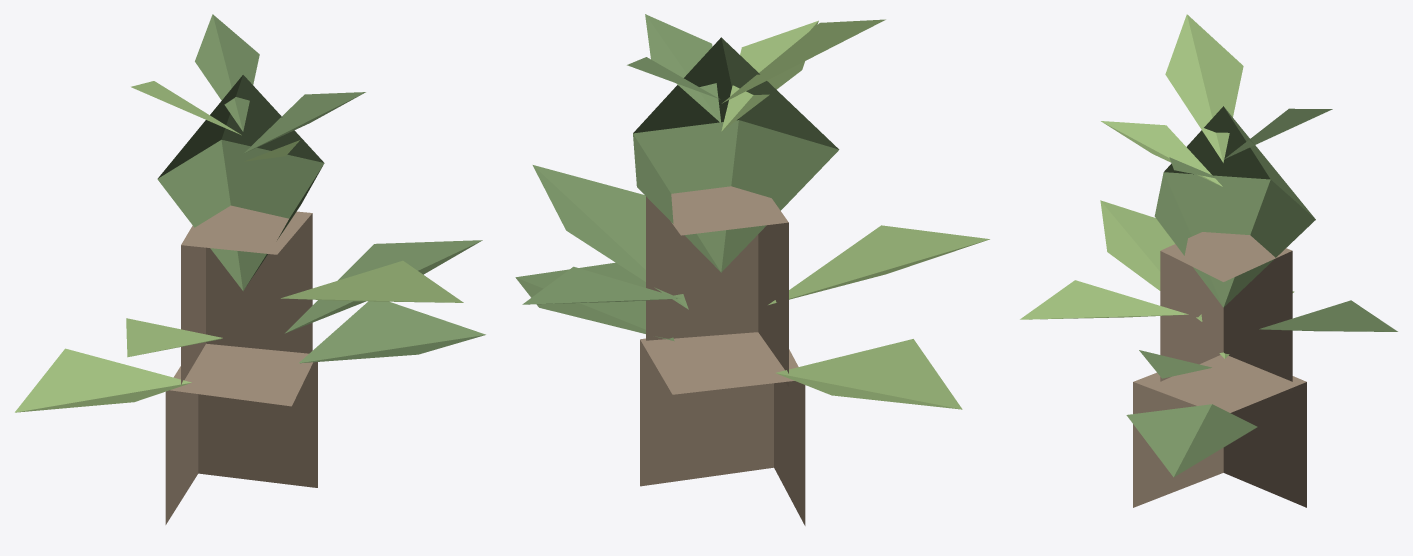
The model's file is shui.pingpeng@seedling__bloom.glb.
3 views of the same model, side by side, from view 1: azimuth 30°, elevation 25°; view 2: azimuth 150°, elevation 25°; view 3: azimuth 270°, elevation 25° (orthographic). The views are drawn at different scales.
Visible parts, largest first — view 1: shui.pingpeng@seedling__bloom; view 2: shui.pingpeng@seedling__bloom; view 3: shui.pingpeng@seedling__bloom.
Boxes of the visible parts, x1=… form: shui.pingpeng@seedling__bloom: x1=15, y1=14, x2=485, y2=524; shui.pingpeng@seedling__bloom: x1=515, y1=14, x2=989, y2=525; shui.pingpeng@seedling__bloom: x1=1020, y1=14, x2=1397, y2=507.
Bounding box in the file's own units: 0.0847 × 0.0853 × 0.0676.
